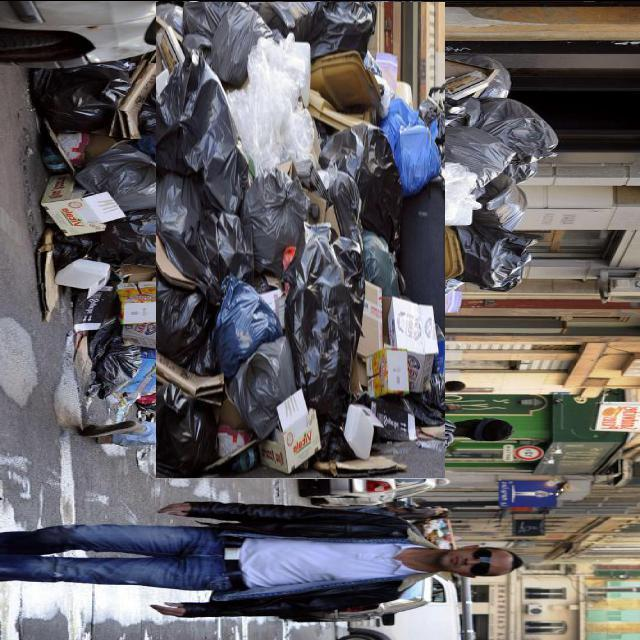Trashbag: (150, 59, 246, 218), (294, 239, 367, 407), (448, 99, 561, 199), (324, 130, 399, 234), (230, 337, 304, 438), (449, 221, 544, 290), (252, 175, 310, 270), (307, 3, 375, 71), (154, 294, 213, 372), (158, 396, 213, 476), (212, 9, 270, 82), (208, 214, 258, 290)
